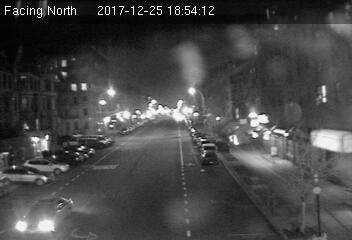car: (15, 196, 71, 234), (198, 150, 219, 165)
